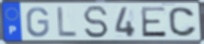4: (114, 6, 137, 39)
C: (168, 6, 199, 38)
E: (139, 6, 168, 38)
G: (25, 6, 50, 38)
L: (56, 6, 78, 39)
S: (82, 5, 110, 40)
